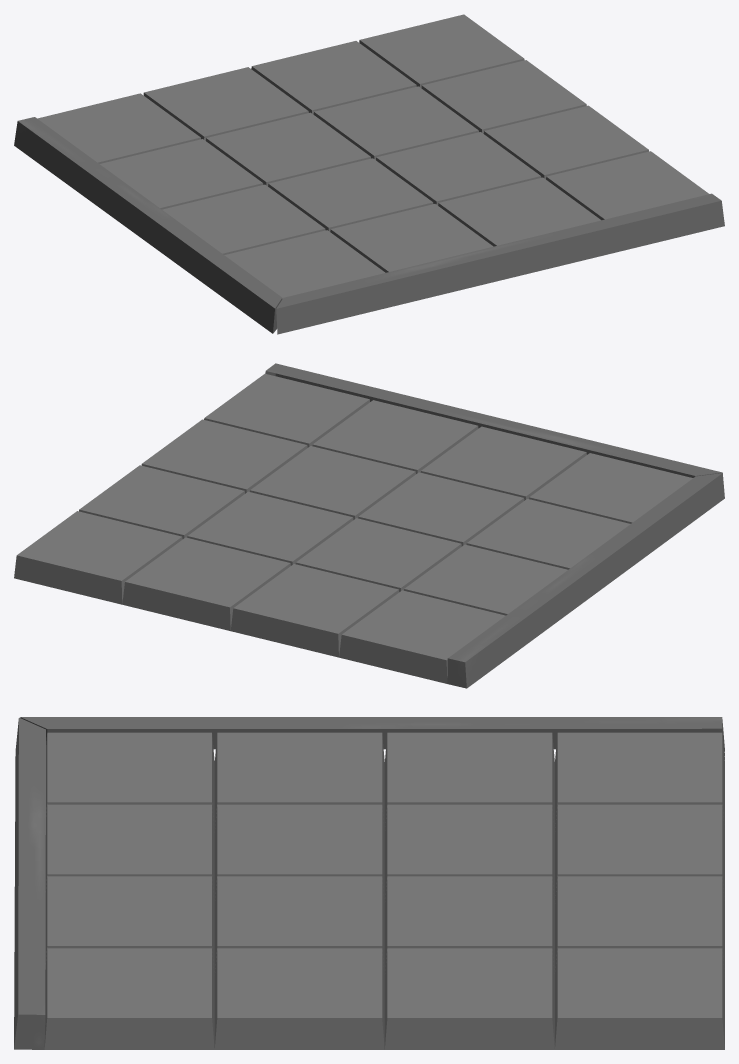
File: walkway-corner.fbx
The picture shows the model from 3 angles, top to bottom: view 1: azimuth 30°, elevation 25°; view 2: azimuth 150°, elevation 25°; view 3: azimuth 270°, elevation 25°; orthographic projection. The views are drawn at different scales.
Visible parts, largest first — view 1: Cube, Cube.001; view 2: Cube, Cube.001; view 3: Cube, Cube.001.
Part boxes in pixels (box(x1,y1,x2,y2)): Cube: box(37, 14, 708, 298); Cube.001: box(14, 117, 724, 334); Cube: box(14, 373, 692, 683); Cube.001: box(265, 363, 724, 688); Cube: box(44, 732, 724, 1049); Cube.001: box(14, 717, 724, 1049).
Size of the model in its own units: 209 by 11.18 by 209.
